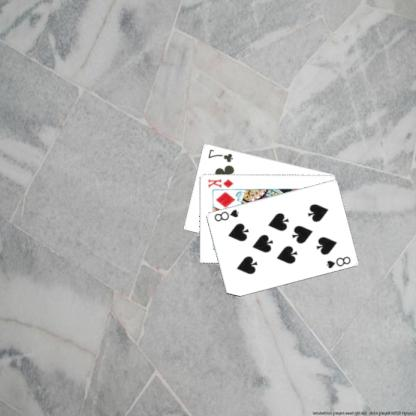7C: (207, 146, 236, 164)
8S: (212, 206, 242, 223), (325, 254, 354, 270)
KD: (207, 176, 236, 189)
